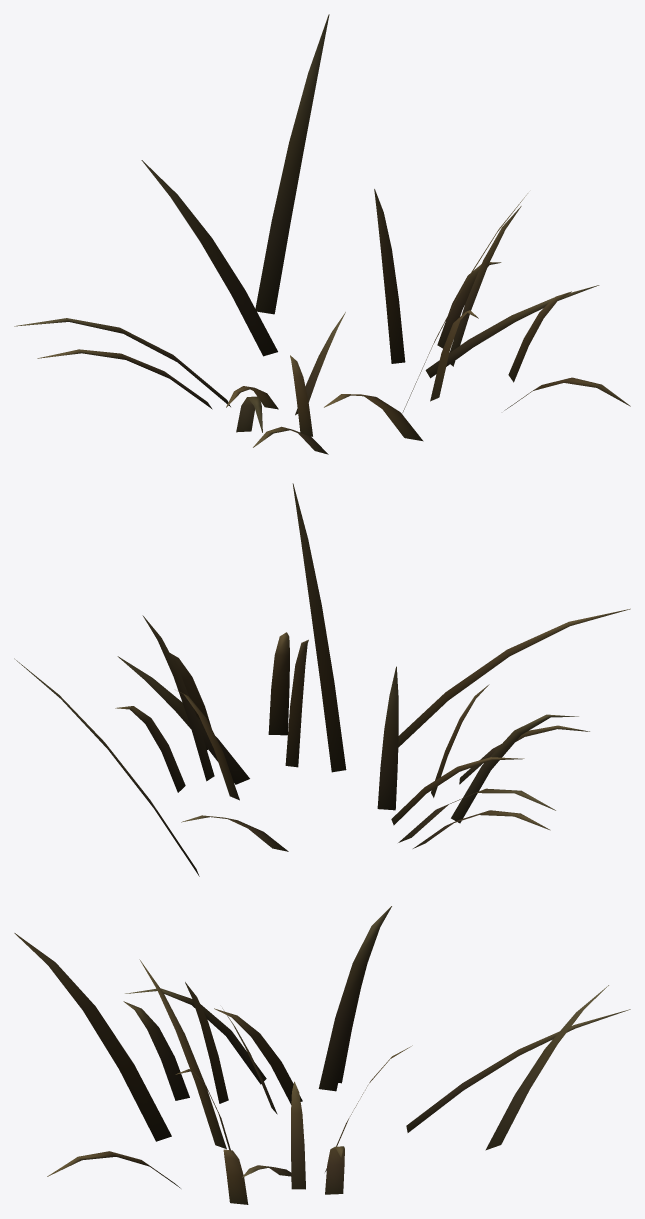
File: grass-dead.glb
The picture shows the model from 3 angles, top to bottom: view 1: azimuth 30°, elevation 25°; view 2: azimuth 150°, elevation 25°; view 3: azimuth 270°, elevation 25°; orthographic projection. The views are drawn at different scales.
Parts seen in each view (by area): view 1: Grass_Dead; view 2: Grass_Dead; view 3: Grass_Dead.
Part boxes in pixels (x1,y1,x2,y2): Grass_Dead: (14, 14, 630, 454); Grass_Dead: (14, 483, 630, 876); Grass_Dead: (14, 906, 630, 1204).
Size of the model in its own units: 0.549 by 0.24 by 0.5848.
